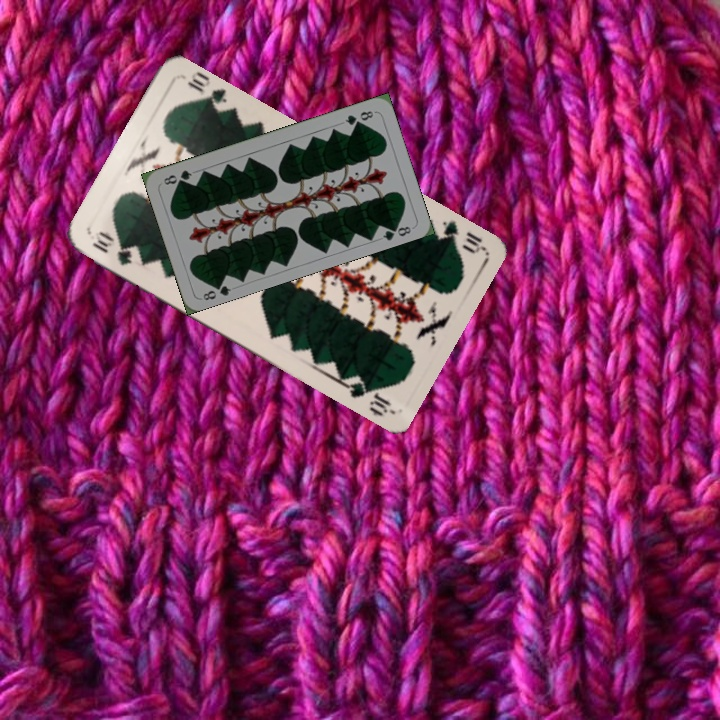G10: (428, 216, 486, 257), (87, 227, 135, 268)
G8: (199, 278, 234, 303), (341, 107, 378, 128)
